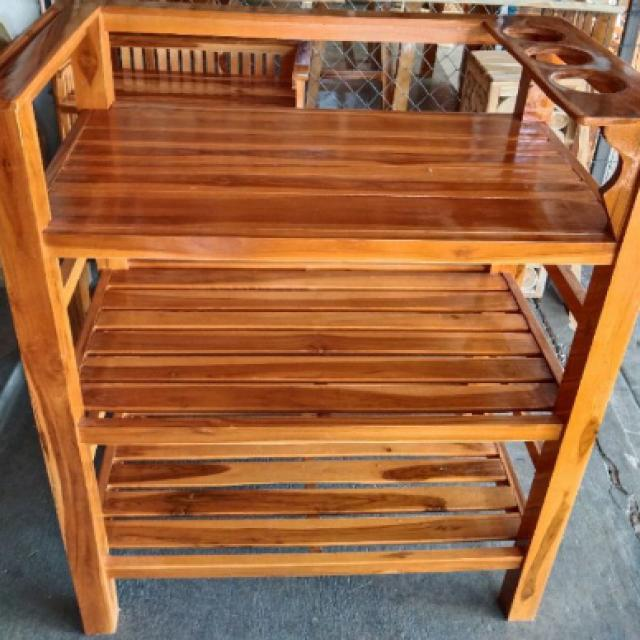table: (6, 7, 636, 636)
